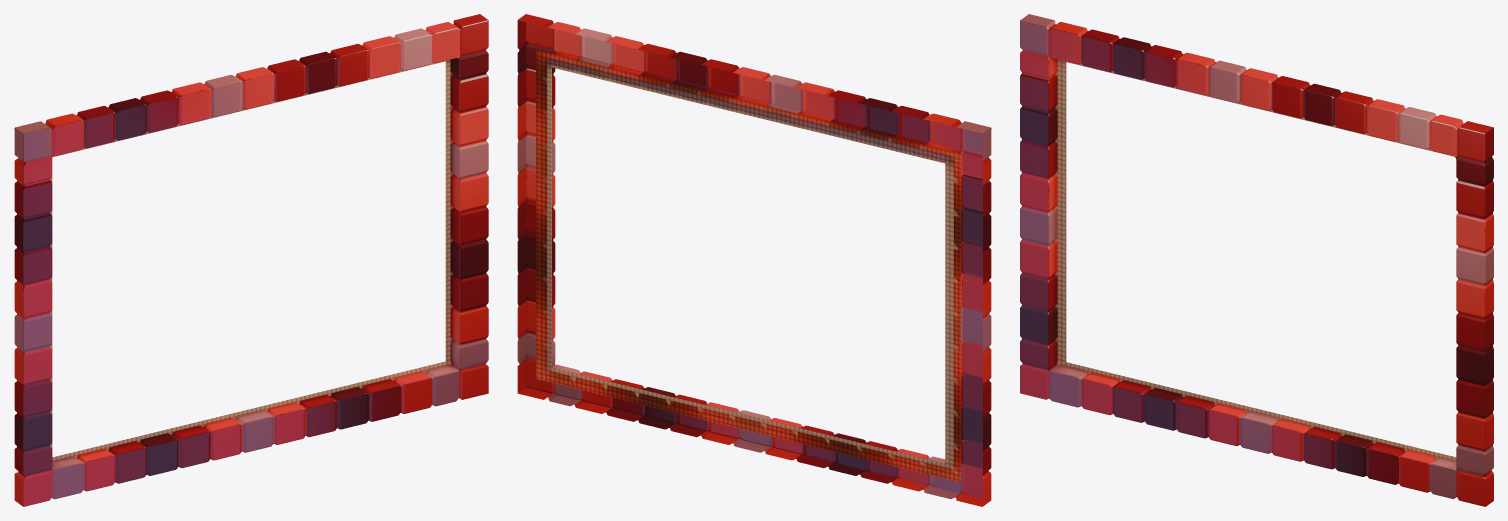
The model's file is redFrame.glb.
The picture shows the model from 3 angles, left to right: view 1: azimuth 30°, elevation 25°; view 2: azimuth 150°, elevation 25°; view 3: azimuth 330°, elevation 25°; orthographic projection.
Parts seen in each view (by area): view 1: RedFrameBaked; view 2: RedFrameBaked; view 3: RedFrameBaked.
Part boxes in pixels (x1,y1,x2,y2): RedFrameBaked: (14,14,488,506); RedFrameBaked: (517,14,991,506); RedFrameBaked: (1020,14,1493,506).
Bounding box in the file's own units: 1.79 × 1.37 × 0.0621.
Materials: 1 (1 with a texture image).
